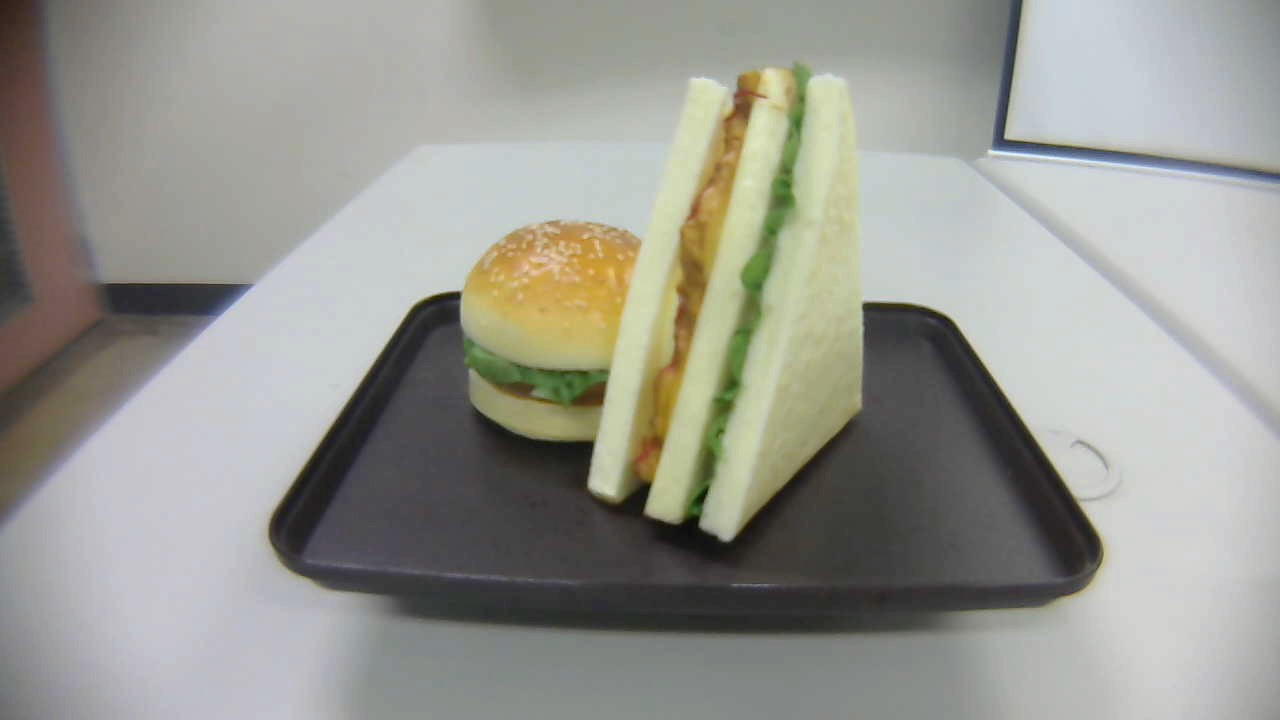hamburger: (461, 217, 643, 442)
sandwich: (587, 57, 865, 545)
